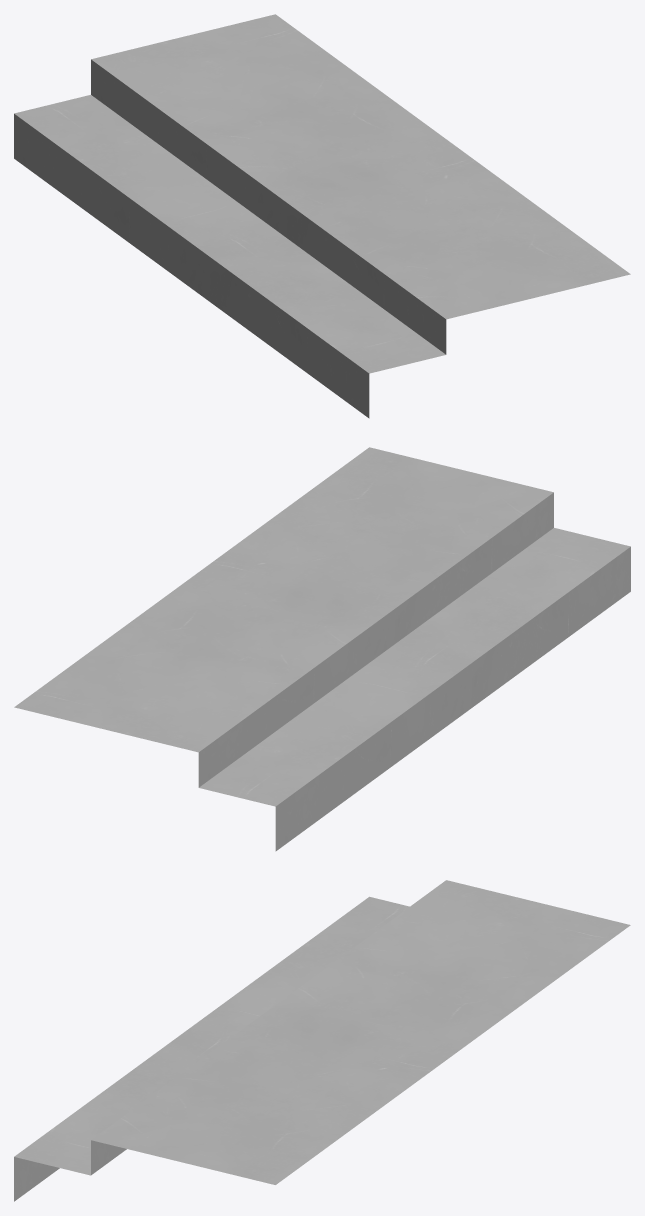
The model's file is SM_Floor_01.fbx.
3 renders of one model, top to bottom at view 1: azimuth 30°, elevation 25°; view 2: azimuth 150°, elevation 25°; view 3: azimuth 330°, elevation 25°, orthographic.
Parts seen in each view (by area): view 1: SM_Floor_01_LOD0; view 2: SM_Floor_01_LOD0; view 3: SM_Floor_01_LOD0.
Part boxes in pixels (x1,y1,x2,y2): SM_Floor_01_LOD0: (14,14,630,418); SM_Floor_01_LOD0: (14,447,630,851); SM_Floor_01_LOD0: (14,880,630,1201).
Bounding box in the file's own units: 170 × 400 × 50.
